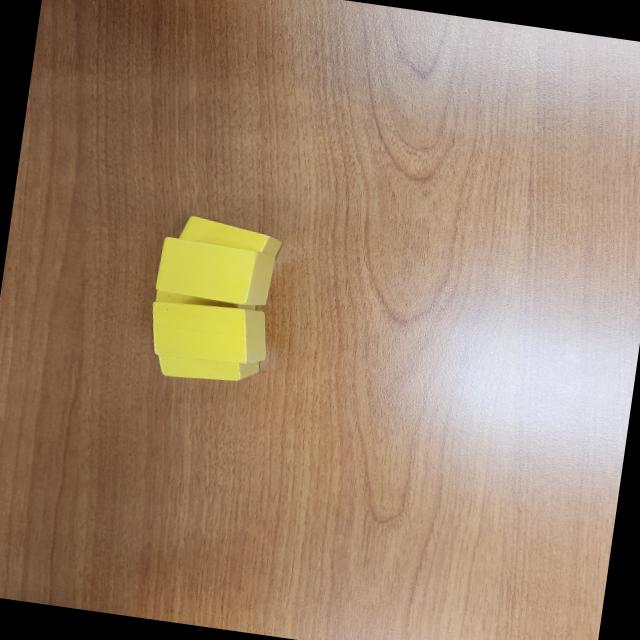yellow: (146, 296, 274, 370), (153, 236, 277, 308), (152, 346, 262, 391), (176, 214, 286, 258), (150, 286, 260, 321)
